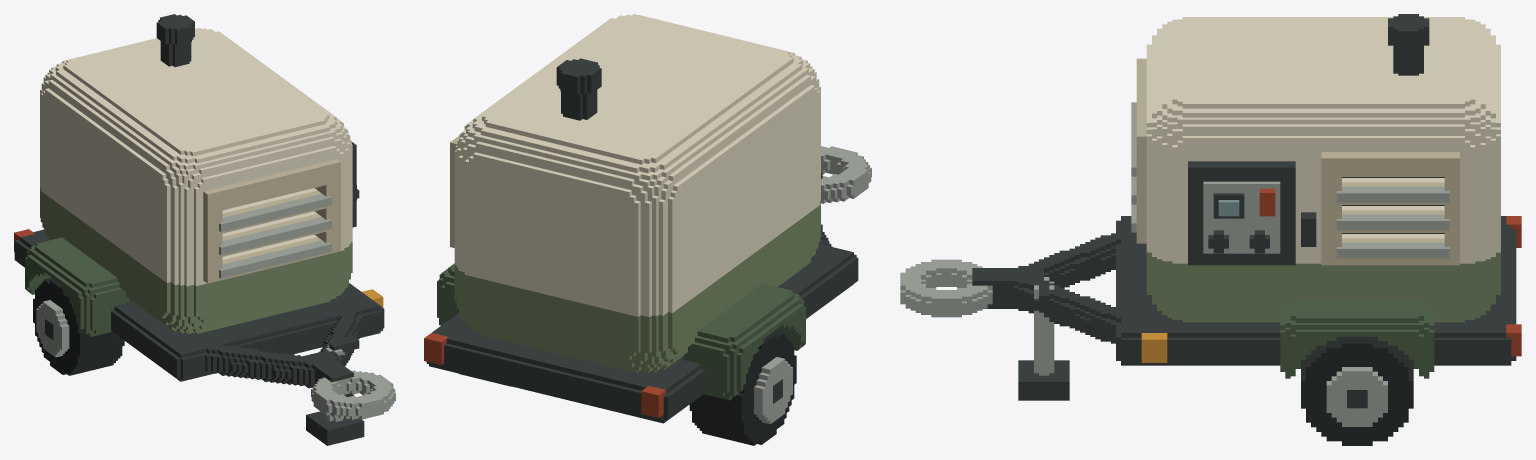
The model's file is generator_trailer.glb.
3 renders of one model, left to right at view 1: azimuth 30°, elevation 25°; view 2: azimuth 150°, elevation 25°; view 3: azimuth 270°, elevation 25°, orthographic. The views are drawn at different scales.
Visible parts, largest first — view 1: generator_trailer; view 2: generator_trailer; view 3: generator_trailer.
Boxes of the visible parts, bbox=[...] form: generator_trailer: bbox=[14, 14, 395, 445]; generator_trailer: bbox=[424, 14, 871, 445]; generator_trailer: bbox=[900, 14, 1521, 445].
Size of the model in its own units: 3.6 by 3.9 by 6.05.
